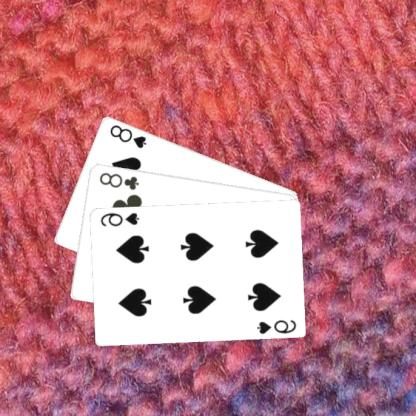6S: (256, 316, 299, 335), (100, 209, 142, 228)
8C: (98, 169, 142, 191)
8S: (108, 121, 150, 150)
